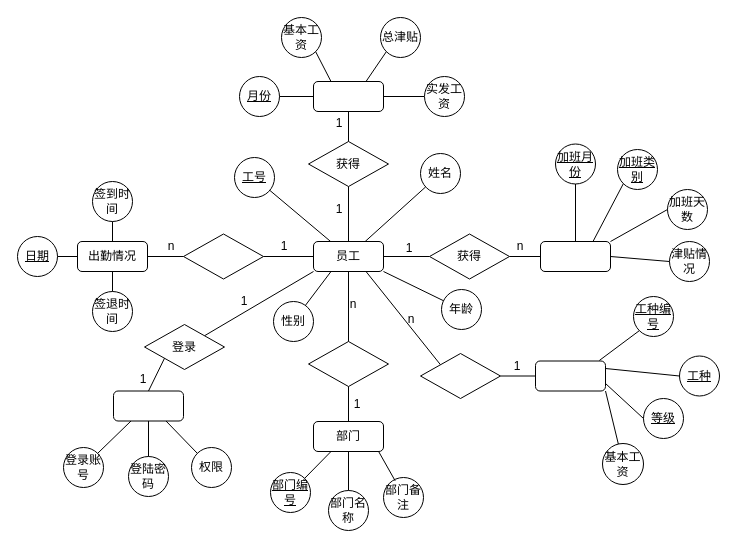
Image size: 737x548. Some labels were removed from this diagram. The shapes that lost their labels are listed below. From the top down, each one's centre as x and y in pixels, then its label:
At point (348, 96): "月工资".
At point (223, 256): "记录".
At point (575, 256): "津贴".
At point (348, 363): "属于".
At point (460, 375): "拥有".
At point (570, 375): "职位".
At point (148, 405): "登录信息".
